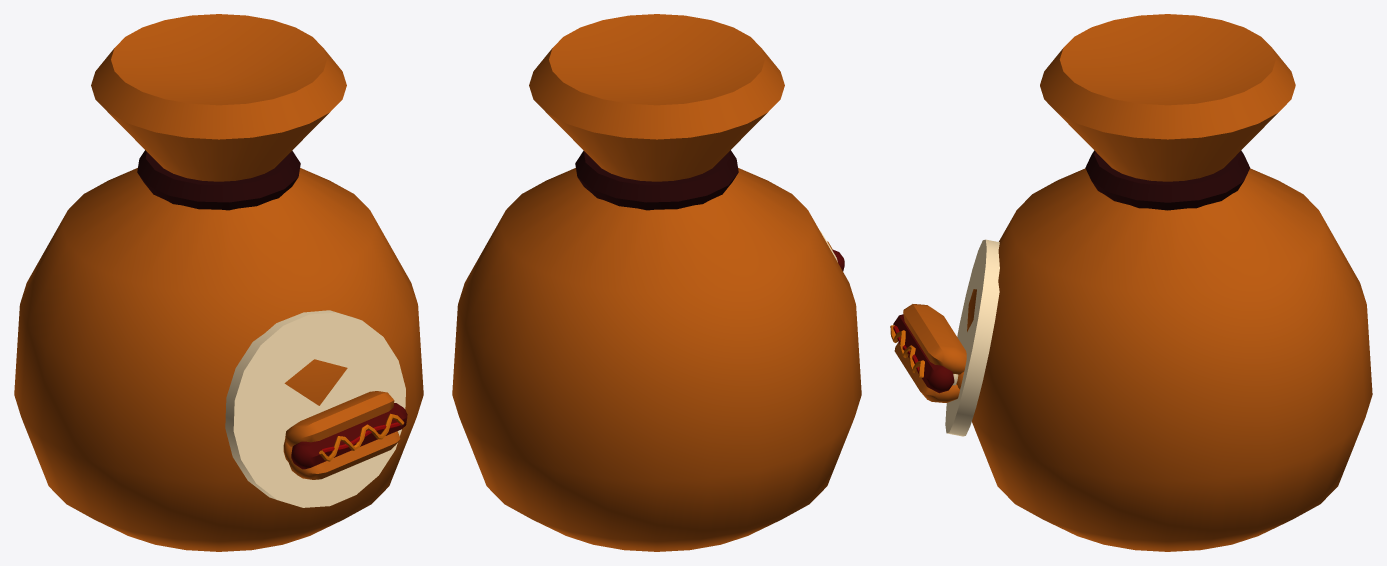
The model's file is MoneyBag.obj.
3 renders of one model, left to right at view 1: azimuth 30°, elevation 25°; view 2: azimuth 150°, elevation 25°; view 3: azimuth 270°, elevation 25°, orthographic.
Visible parts, largest first — view 1: MoneyBag; view 2: MoneyBag; view 3: MoneyBag.
Part boxes in pixels (<box>): MoneyBag: <box>14,14,423,551</box>; MoneyBag: <box>452,14,861,551</box>; MoneyBag: <box>890,14,1372,551</box>.
Bounding box in the file's own units: 1.44 × 1.7 × 1.7.
